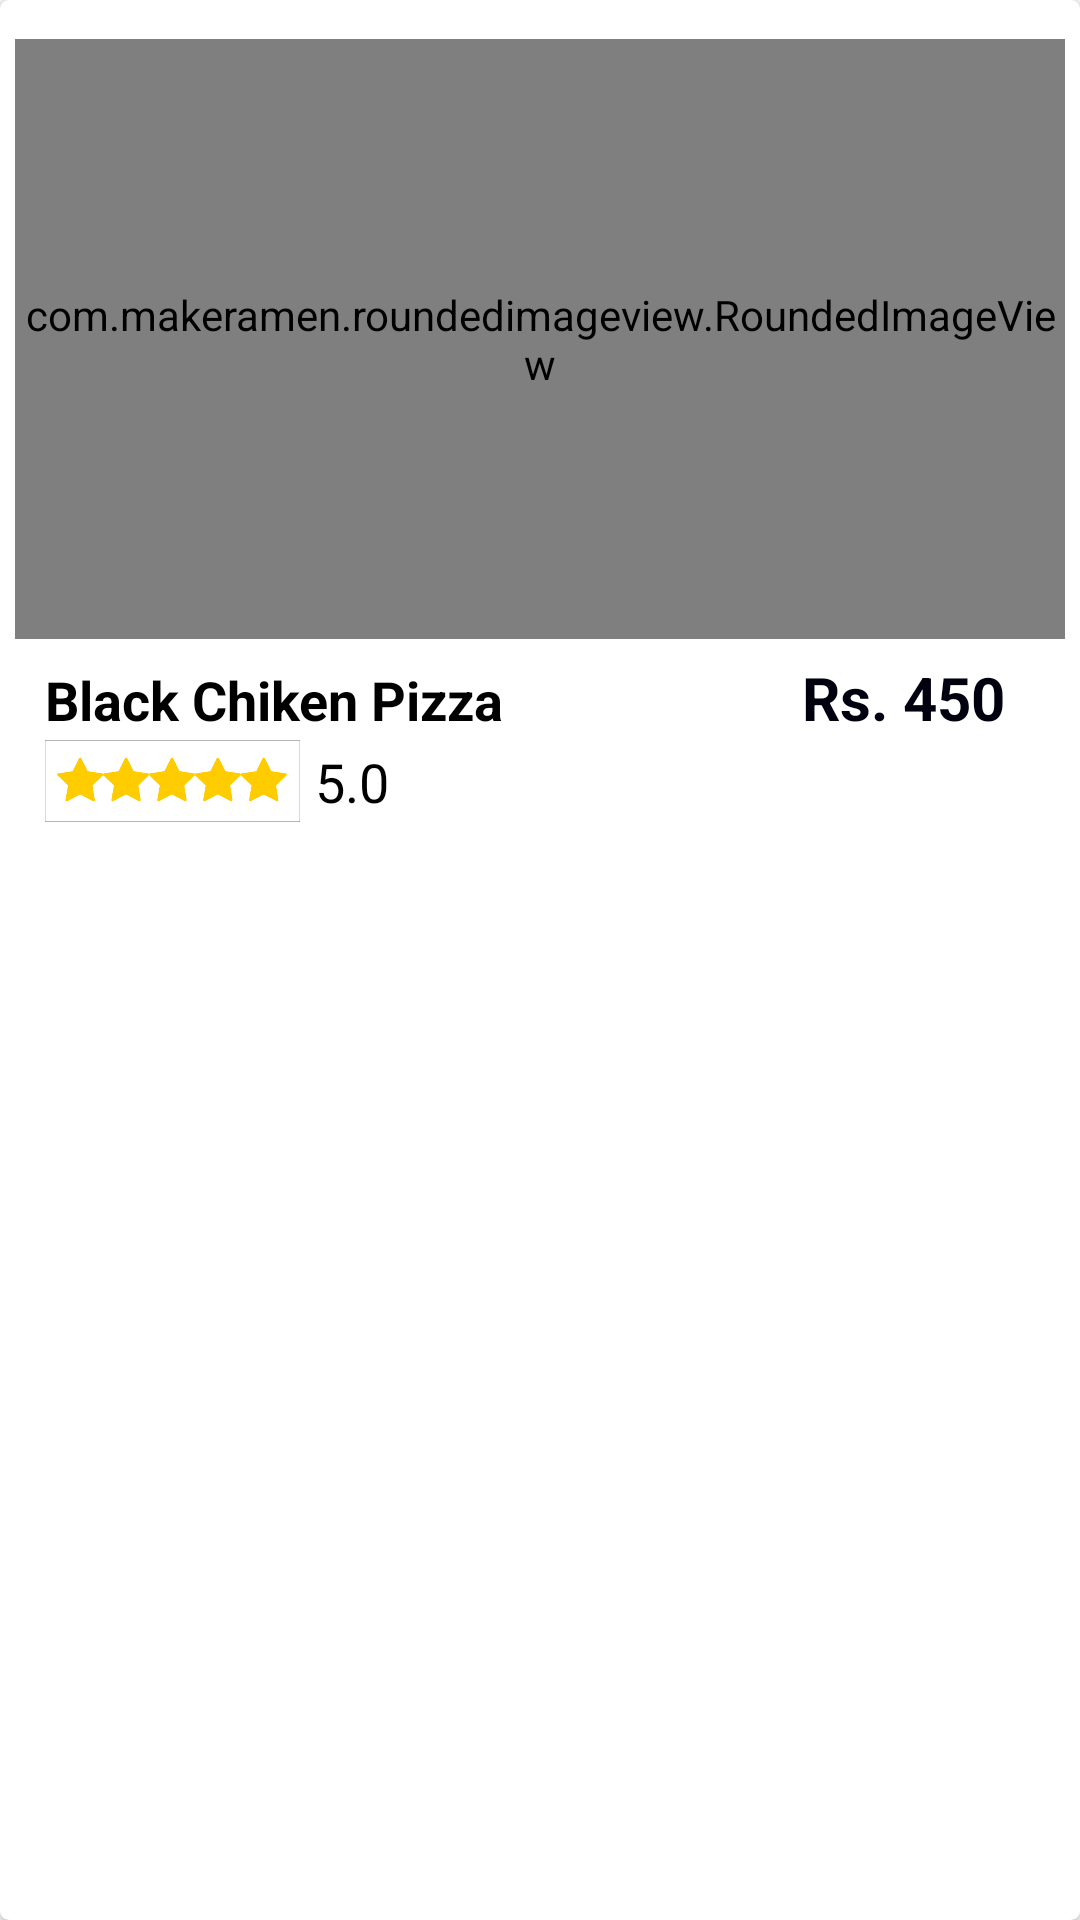

Icons on this 1080x1920 Android screen, each with the point to tap as (x,y):
rating bar: (172,781)
